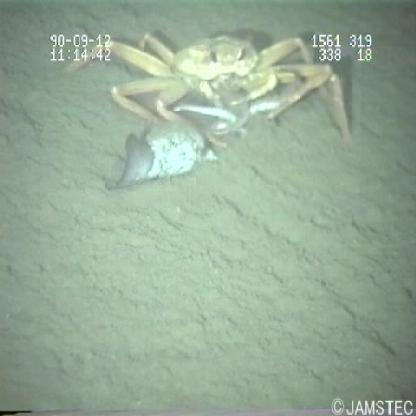Bio: (63, 21, 356, 194)
